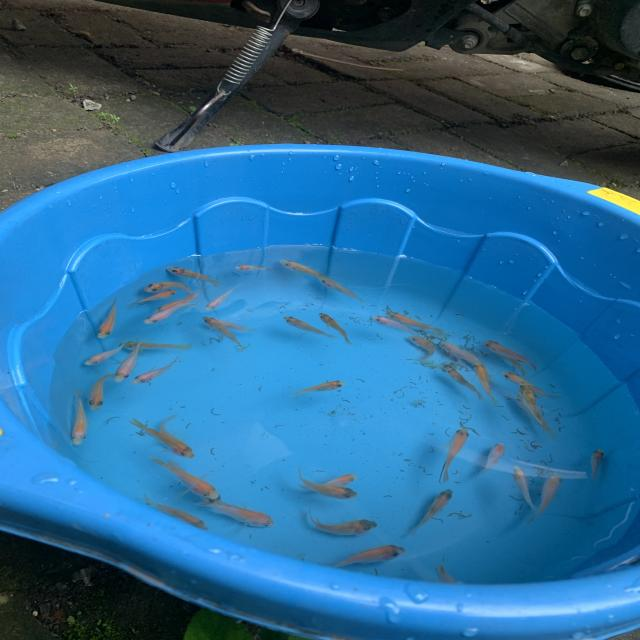nila: (134, 489, 222, 537), (141, 456, 224, 501), (128, 416, 201, 462), (405, 483, 463, 537), (326, 540, 414, 572), (509, 394, 567, 438), (304, 506, 383, 538), (296, 464, 359, 504), (193, 499, 285, 526), (438, 422, 475, 483), (301, 463, 375, 493), (518, 381, 558, 435), (528, 468, 565, 526), (434, 360, 483, 402), (487, 336, 533, 380), (130, 352, 186, 388), (481, 339, 542, 371), (108, 335, 144, 386), (86, 365, 122, 416), (506, 459, 538, 516), (274, 256, 339, 284), (141, 298, 201, 328), (501, 368, 558, 399), (473, 436, 511, 482), (316, 273, 372, 304), (316, 306, 359, 346), (382, 308, 448, 334), (80, 337, 133, 369), (277, 312, 339, 339), (200, 314, 246, 350), (282, 377, 354, 400), (161, 406, 199, 449), (468, 358, 502, 406), (152, 287, 205, 316), (68, 388, 92, 449), (162, 265, 231, 286), (203, 280, 242, 314), (96, 296, 124, 343), (124, 286, 178, 310), (402, 332, 441, 364), (369, 313, 421, 336), (204, 313, 260, 334), (438, 341, 488, 364), (141, 279, 206, 296), (120, 338, 197, 352), (588, 441, 610, 489), (231, 261, 276, 273)
